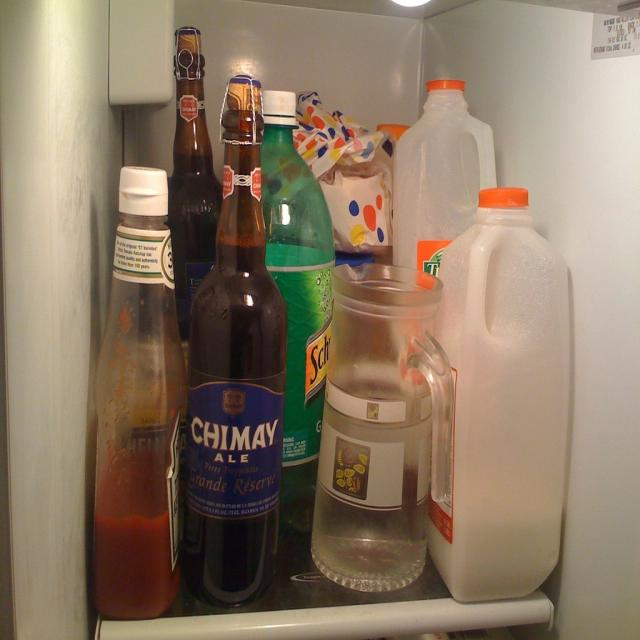chimay: (187, 382, 284, 516)
